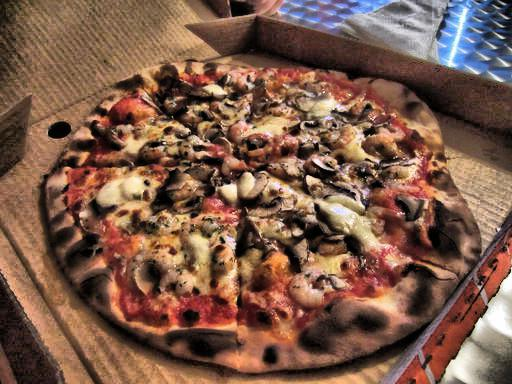pizza: (51, 41, 479, 353)
